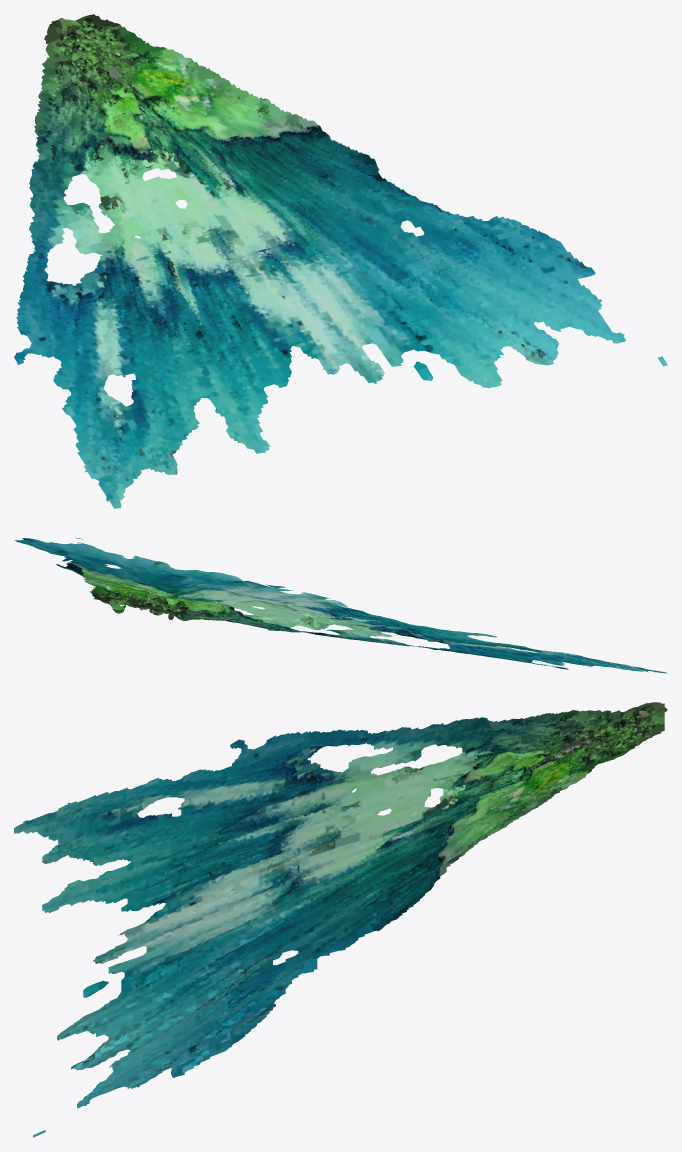
The model's file is mesh_raw.obj.
The picture shows the model from 3 angles, top to bottom: view 1: azimuth 30°, elevation 25°; view 2: azimuth 150°, elevation 25°; view 3: azimuth 270°, elevation 25°; orthographic projection. The views are drawn at different scales.
Size of the model in its own units: 175 by 65.65 by 155.
